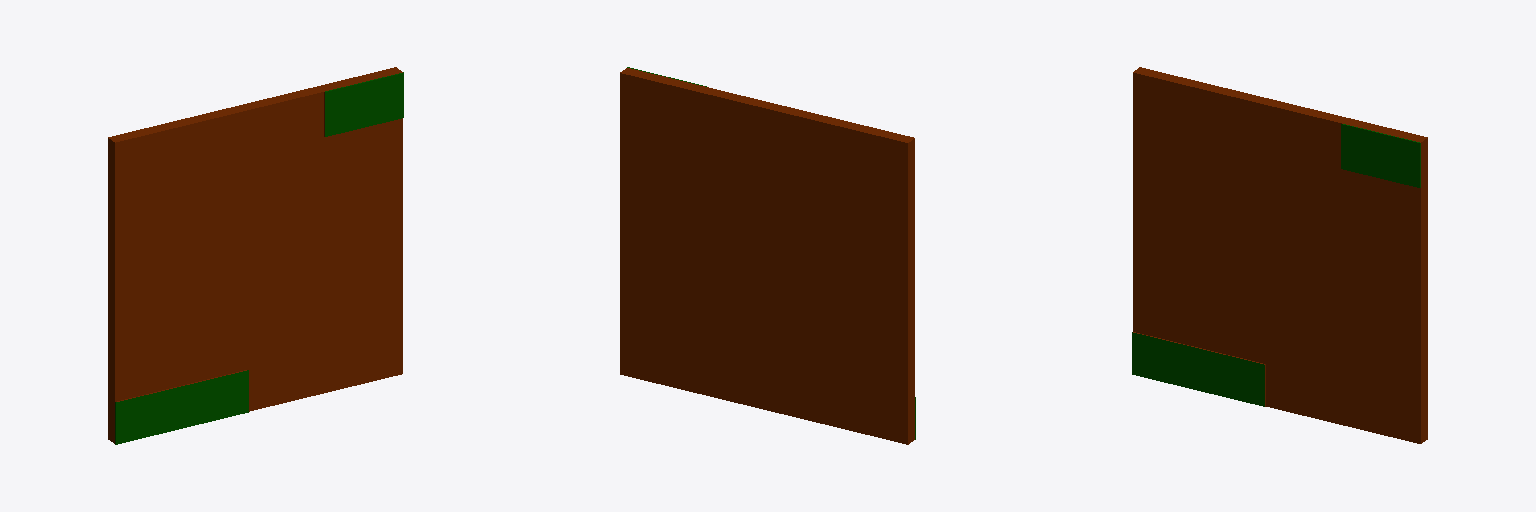
File: dirt.obj
The picture shows the model from 3 angles: view 1: azimuth 30°, elevation 25°; view 2: azimuth 150°, elevation 25°; view 3: azimuth 330°, elevation 25°; orthographic projection.
Visible parts, largest first — view 1: Object.1; view 2: Object.1; view 3: Object.1.
Part boxes in pixels (x1,y1,x2,y2): Object.1: (108,67,403,444); Object.1: (620,67,915,444); Object.1: (1132,67,1427,443).
Size of the model in its own units: 24.65 by 24.65 by 1.18.